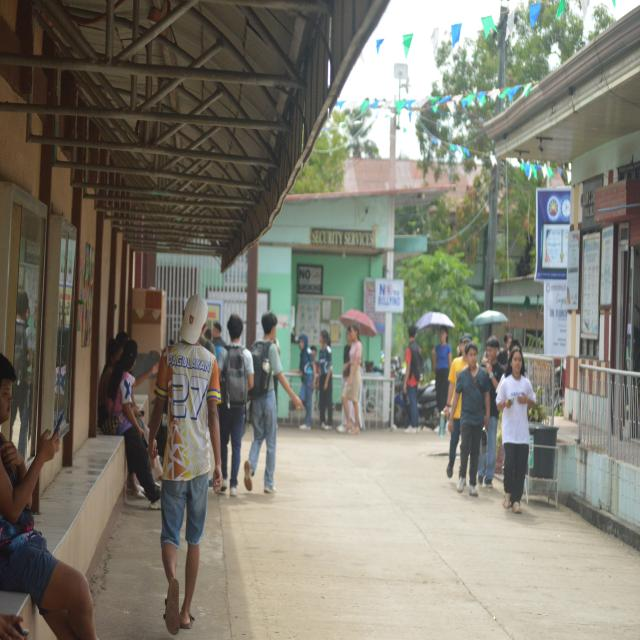person: (149, 295, 222, 634), (0, 430, 96, 639), (245, 312, 302, 493), (107, 341, 160, 509), (218, 314, 253, 496), (497, 347, 535, 513), (453, 341, 489, 496), (478, 336, 504, 487), (444, 334, 471, 478), (342, 325, 362, 435), (403, 326, 423, 432), (295, 335, 315, 430), (432, 327, 452, 412), (318, 330, 332, 430), (498, 333, 512, 367)
